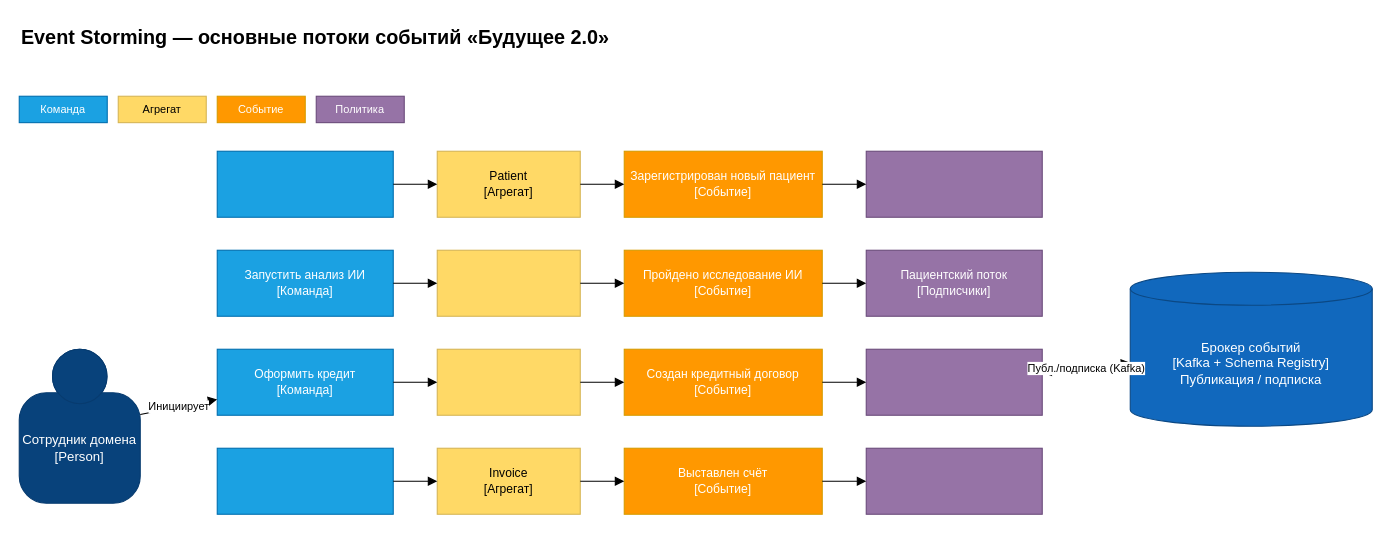
This 1392x534 diagram has some shape labels left out. The centre of each missing label's shape, as x and y in pixels:
"AIInvestigation [Агрегат]" belongs at (x=508, y=282).
"CreditContract [Агрегат]" belongs at (x=508, y=381).
"Аналитика [Подписчики]" belongs at (x=953, y=480).
"Аналитика, Головной офис [Подписчики]" belongs at (x=953, y=381).
"Аналитика, Финтех [Подписчики]" belongs at (x=953, y=183).
"Выставить счёт [Команда]" belongs at (x=304, y=480).
"Зарегистрировать пациента [Команда]" belongs at (x=304, y=183).
